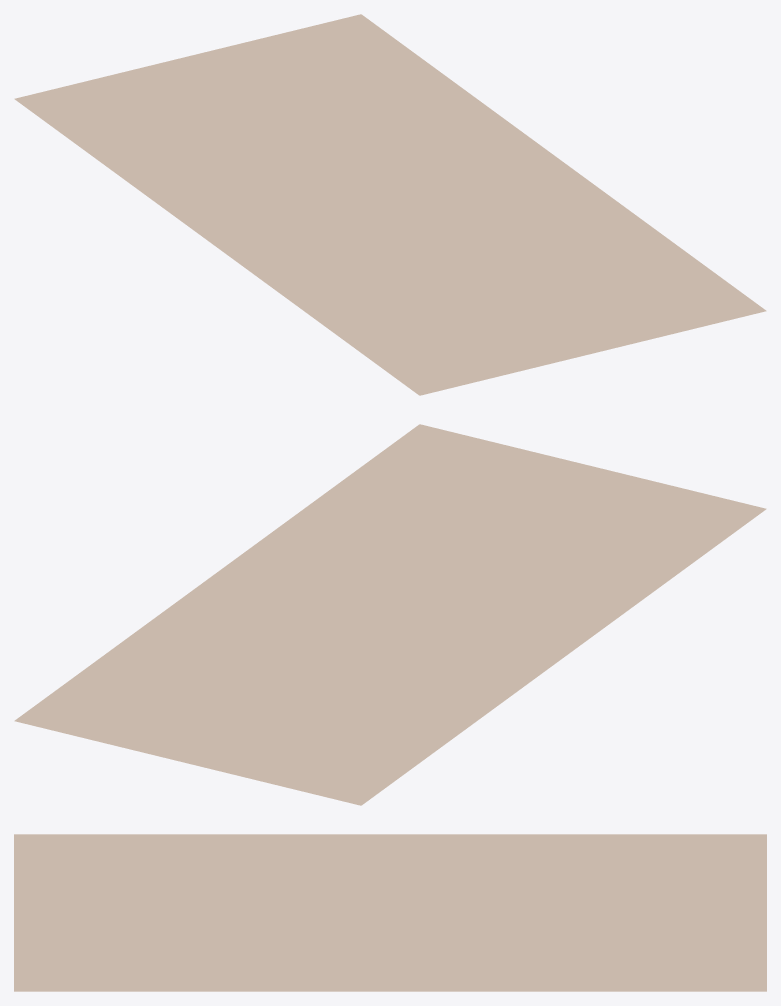
File: ground.fbx
The picture shows the model from 3 angles, top to bottom: view 1: azimuth 30°, elevation 25°; view 2: azimuth 150°, elevation 25°; view 3: azimuth 270°, elevation 25°; orthographic projection. The views are drawn at different scales.
Parts seen in each view (by area): view 1: ground; view 2: ground; view 3: ground.
Boxes of the visible parts, <box> form: ground: <box>14,14,766,395</box>; ground: <box>14,424,766,805</box>; ground: <box>14,834,766,991</box>.
Bounding box in the file's own units: 94.67 × 4.56 × 192.
